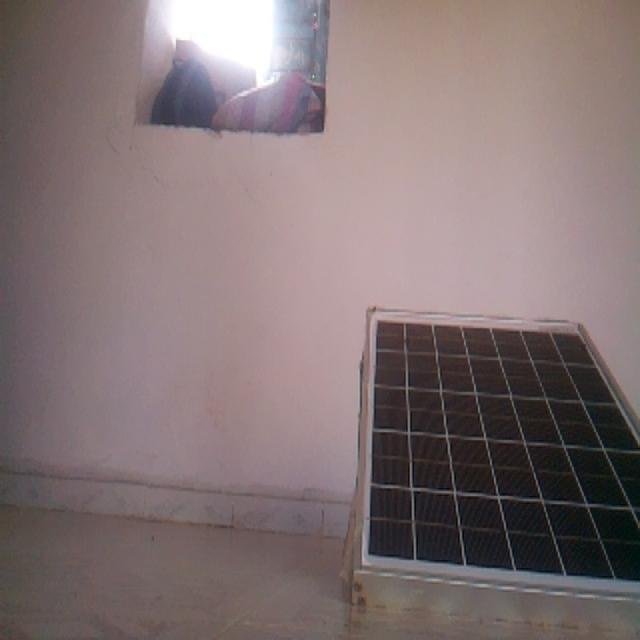Normal Solar Panel: (366, 309, 640, 581)
